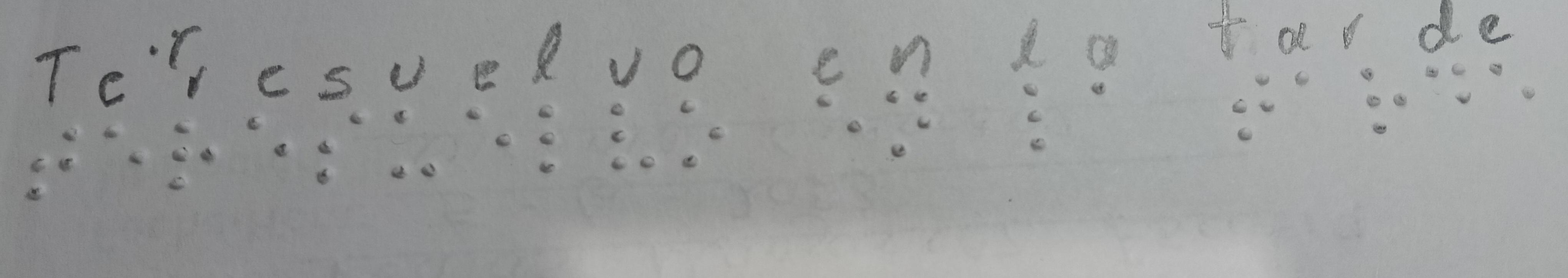a: (1071, 69, 1113, 115), (1280, 59, 1317, 98)
d: (1415, 54, 1474, 113)
e: (234, 102, 300, 180), (800, 90, 873, 155), (456, 100, 515, 174), (1484, 52, 1540, 121), (102, 119, 150, 184)
l: (1009, 77, 1059, 163), (527, 94, 569, 182)
n: (880, 84, 940, 161)
o: (667, 90, 728, 186)
r: (1334, 61, 1415, 146), (163, 113, 223, 196)
s: (309, 109, 371, 190)
t: (17, 119, 86, 213), (1213, 65, 1282, 151)
u: (384, 107, 446, 182)
v: (594, 94, 667, 182)
